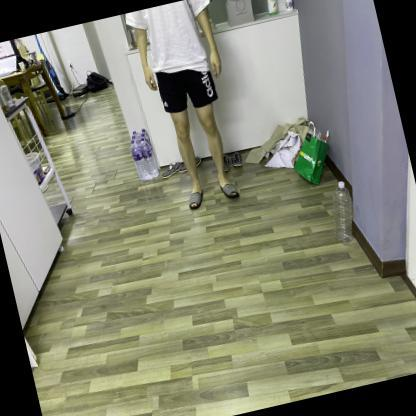no_safety-shoe: (213, 169, 249, 210), (181, 176, 212, 216)
